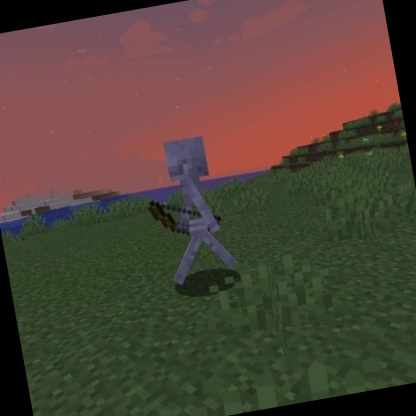skeleton: (133, 129, 244, 293)
